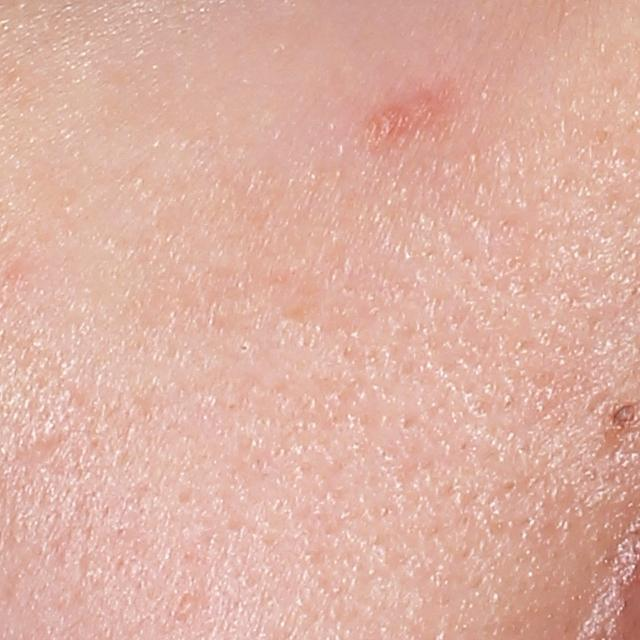comedo: (498, 476, 519, 493)
